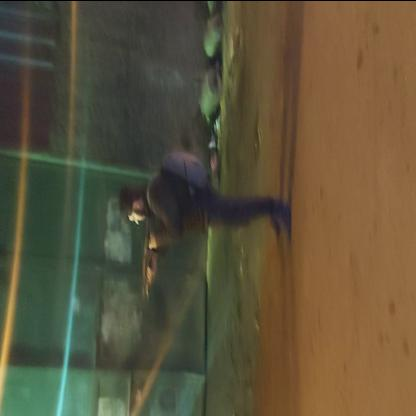long weapon: (140, 210, 162, 304)
